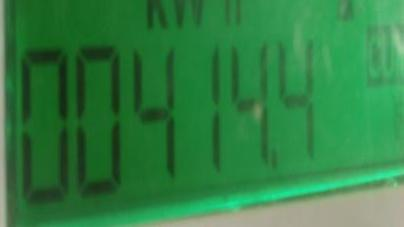.: (142, 0, 246, 33)
0: (271, 147, 281, 169)
1: (18, 49, 72, 203), (73, 48, 125, 201)
2: (203, 43, 226, 177)
5: (130, 45, 181, 185), (227, 43, 271, 166), (274, 38, 318, 161)
